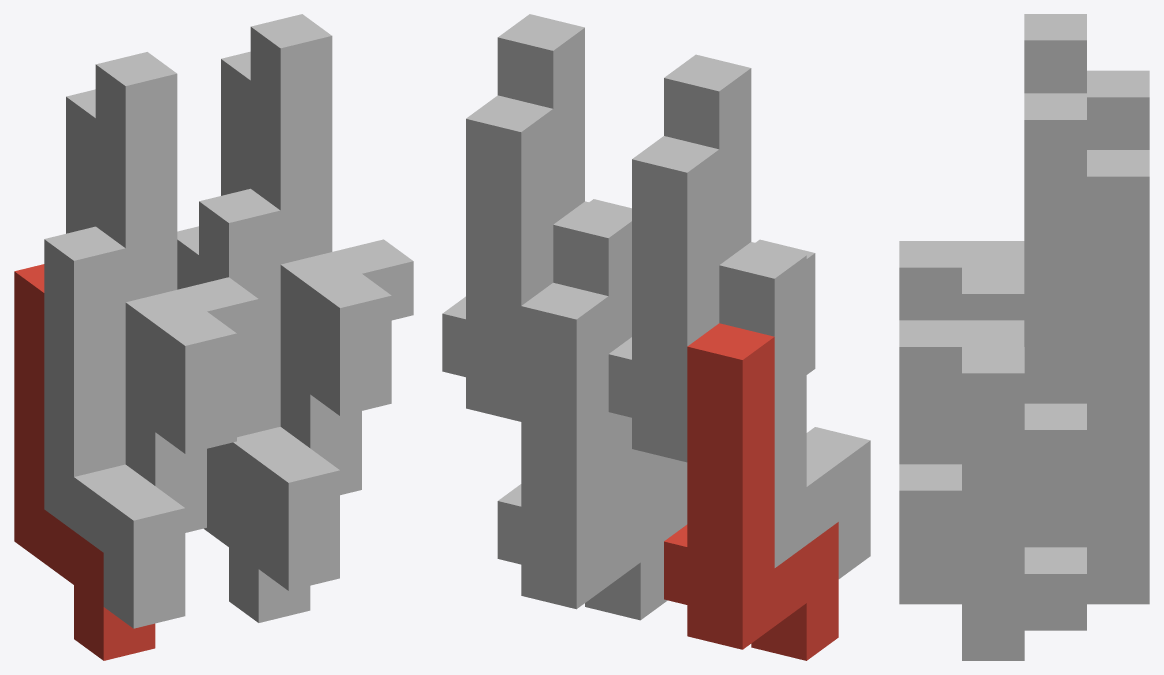
The model's file is tiling.obj.
The picture shows the model from 3 angles, left to right: view 1: azimuth 30°, elevation 25°; view 2: azimuth 150°, elevation 25°; view 3: azimuth 270°, elevation 25°; orthographic projection. The views are drawn at different scales.
Parts seen in each view (by area): view 1: copy_1_domain_2, copy_1_domain_8, copy_1_domain_4, copy_1_domain_6, copy_1_domain_1, copy_1_domain_3, copy_1_domain_7, copy_1_domain_5; view 2: copy_1_domain_1, copy_1_domain_5, copy_1_domain_7, copy_1_domain_3, copy_1_domain_2, copy_1_domain_6, copy_1_domain_4, copy_1_domain_8; view 3: copy_1_domain_8, copy_1_domain_7, copy_1_domain_5, copy_1_domain_6, copy_1_domain_4, copy_1_domain_3.
Part boxes in pixels (x1,y1,x2,y2): copy_1_domain_2: (44, 226, 206, 628); copy_1_domain_8: (250, 14, 413, 416); copy_1_domain_4: (95, 52, 258, 453); copy_1_domain_6: (199, 188, 361, 590); copy_1_domain_1: (14, 264, 155, 660); copy_1_domain_3: (66, 89, 206, 486); copy_1_domain_7: (221, 51, 361, 448); copy_1_domain_5: (177, 226, 310, 622); copy_1_domain_1: (664, 323, 838, 660); copy_1_domain_5: (497, 282, 672, 620); copy_1_domain_7: (442, 95, 553, 421); copy_1_domain_3: (608, 136, 719, 462); copy_1_domain_2: (719, 242, 870, 578); copy_1_domain_6: (553, 201, 687, 534); copy_1_domain_4: (664, 54, 815, 374); copy_1_domain_8: (497, 14, 631, 224); copy_1_domain_8: (899, 93, 1086, 460); copy_1_domain_7: (962, 150, 1149, 517); copy_1_domain_5: (962, 460, 1149, 660); copy_1_domain_6: (899, 464, 1086, 604); copy_1_domain_4: (899, 14, 1086, 320); copy_1_domain_3: (1087, 70, 1149, 149).
Bounding box in the file's own units: 6 × 10 × 4.
